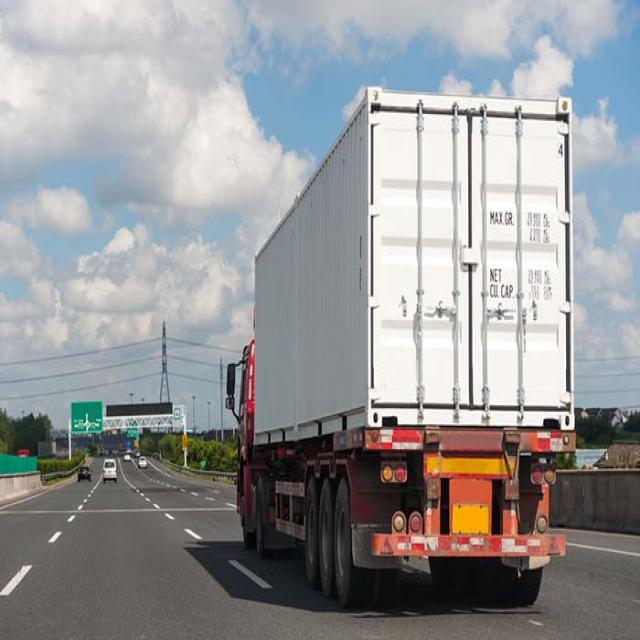normal_truck: (224, 84, 577, 608)
